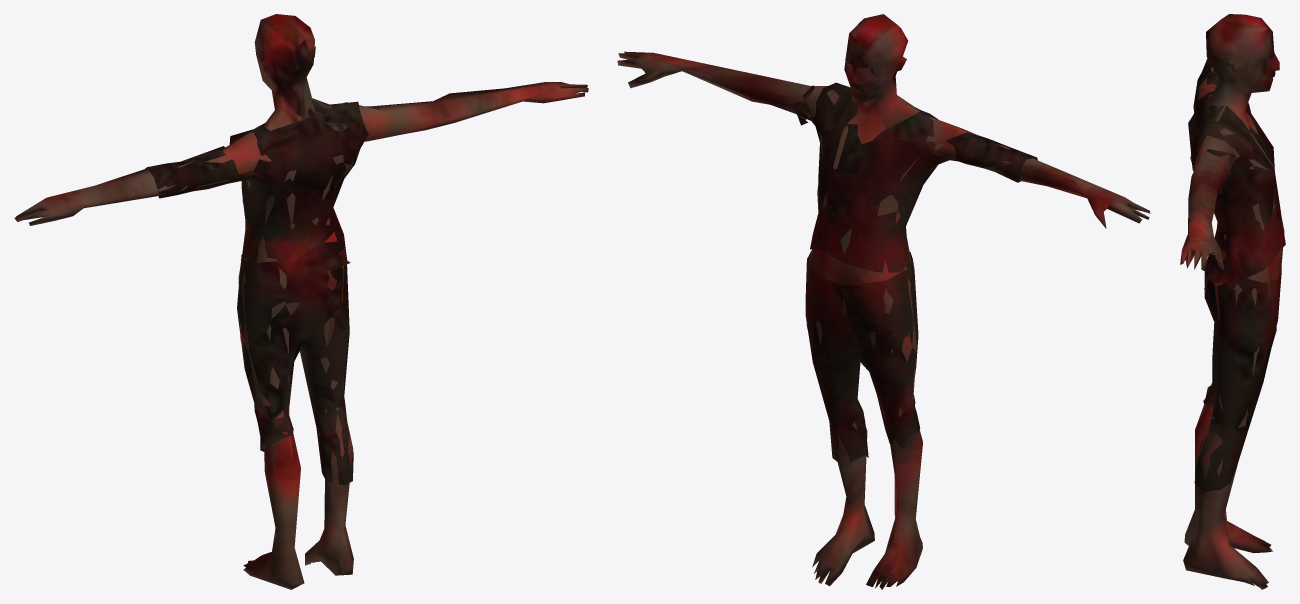
The model's file is zombie_lod.glb.
3 views of the same model, side by side, from view 1: azimuth 30°, elevation 25°; view 2: azimuth 150°, elevation 25°; view 3: azimuth 270°, elevation 25° (orthographic). The views are drawn at different scales.
Parts seen in each view (by area): view 1: CityDeadOutfit:Mesh1.001_pose; view 2: CityDeadOutfit:Mesh1.001_pose; view 3: CityDeadOutfit:Mesh1.001_pose.
Part boxes in pixels (left/top/right/bottom): CityDeadOutfit:Mesh1.001_pose: left=14, top=14, right=588, bottom=589; CityDeadOutfit:Mesh1.001_pose: left=617, top=14, right=1150, bottom=589; CityDeadOutfit:Mesh1.001_pose: left=1180, top=14, right=1285, bottom=589.
Bounding box in the file's own units: 1.79 × 1.75 × 0.303.
3 materials, 2 textured.
